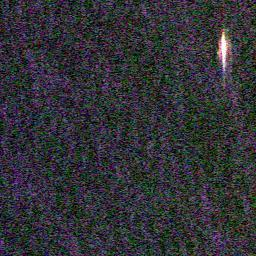Ship: (215, 34, 229, 67)
